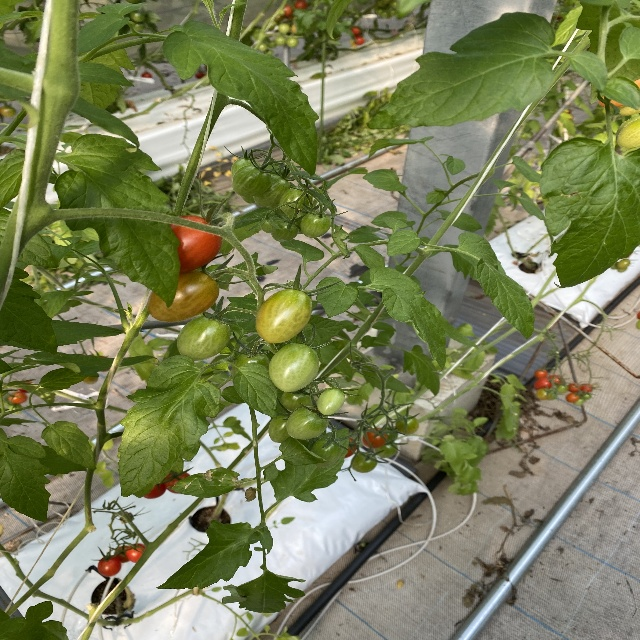l_fully_ripened: (168, 216, 223, 276)
l_green: (176, 314, 232, 361), (268, 342, 320, 392), (285, 407, 329, 440), (253, 173, 291, 208), (275, 185, 314, 219), (232, 165, 272, 197), (231, 350, 270, 379), (280, 386, 317, 413), (310, 439, 343, 468), (300, 210, 331, 238), (316, 387, 345, 416), (271, 217, 300, 243), (231, 157, 261, 180), (268, 413, 290, 443), (261, 217, 278, 233)
l_half_ripened: (146, 270, 221, 322), (254, 287, 312, 343)
